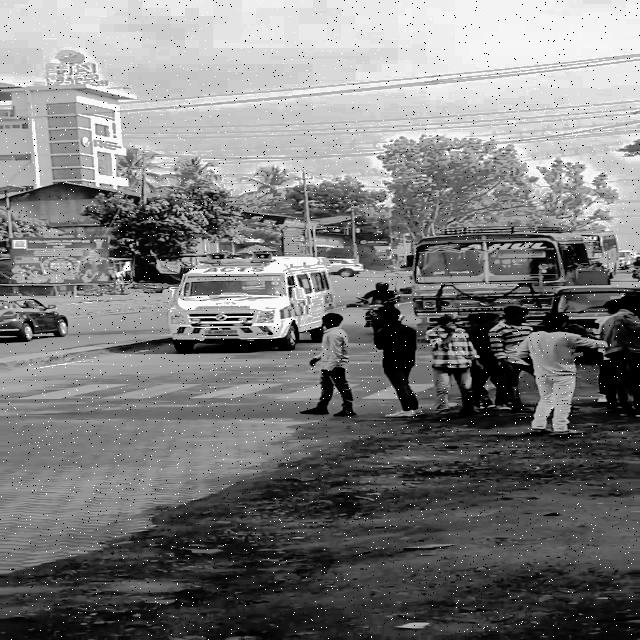Ambulance: (150, 247, 348, 341)
